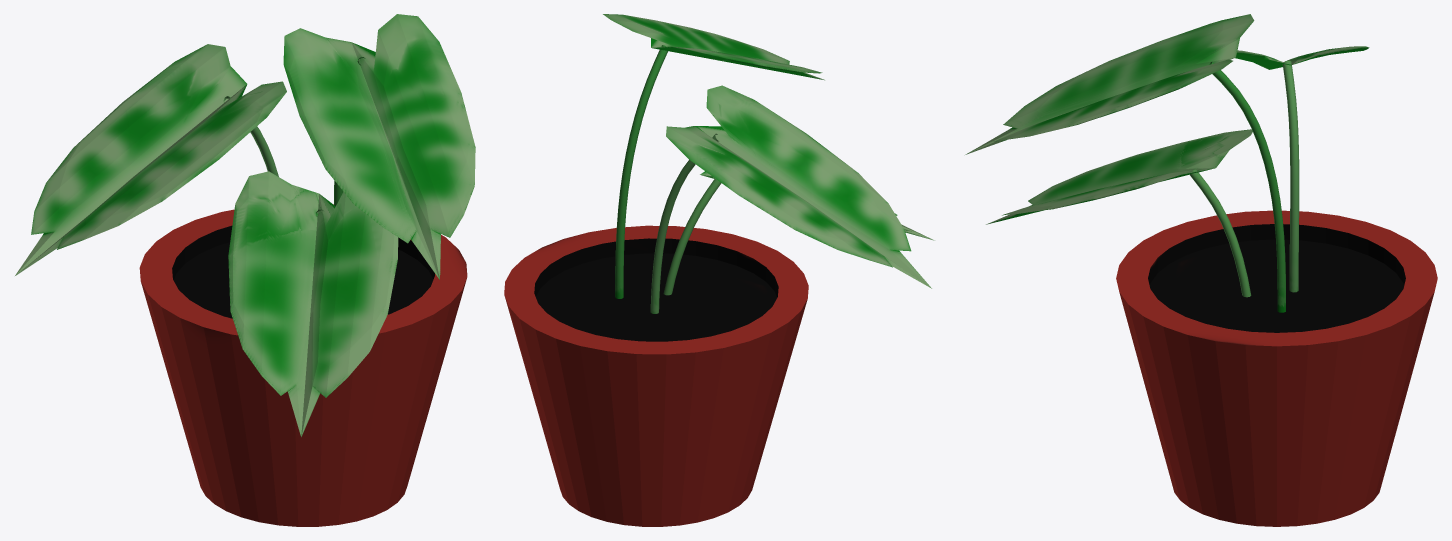
File: plantDone.fbx
3 views of the same model, side by side, from view 1: azimuth 30°, elevation 25°; view 2: azimuth 150°, elevation 25°; view 3: azimuth 270°, elevation 25° (orthographic). The views are drawn at different scales.
Visible parts, largest first — view 1: Plane, Cylinder; view 2: Cylinder, Plane; view 3: Cylinder, Plane.
Part boxes in pixels (bbox=[...]): Plane: bbox=[15, 14, 475, 436]; Cylinder: bbox=[139, 204, 467, 526]; Cylinder: bbox=[504, 225, 808, 526]; Plane: bbox=[603, 14, 934, 313]; Cylinder: bbox=[1116, 210, 1437, 526]; Plane: bbox=[965, 14, 1369, 312].
Size of the model in its own units: 306 by 314 by 294.
